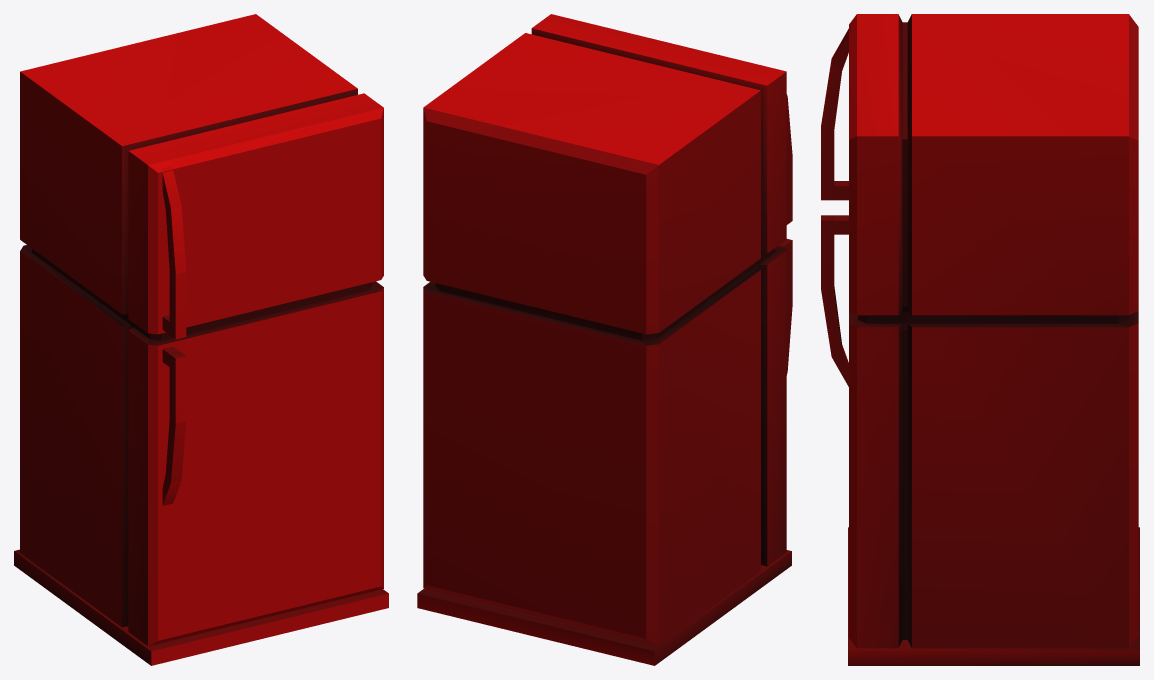
The model's file is Fridge.glb.
The picture shows the model from 3 angles, left to right: view 1: azimuth 30°, elevation 25°; view 2: azimuth 150°, elevation 25°; view 3: azimuth 270°, elevation 25°; orthographic projection. The views are drawn at different scales.
Visible parts, largest first — view 1: Fridge; view 2: Fridge; view 3: Fridge.
Boxes of the visible parts, x1,y1,x2,y2 form: Fridge: (14,14,388,665); Fridge: (417,14,792,665); Fridge: (821,14,1139,665).
Size of the model in its own units: 5.1 by 10.19 by 5.57.
